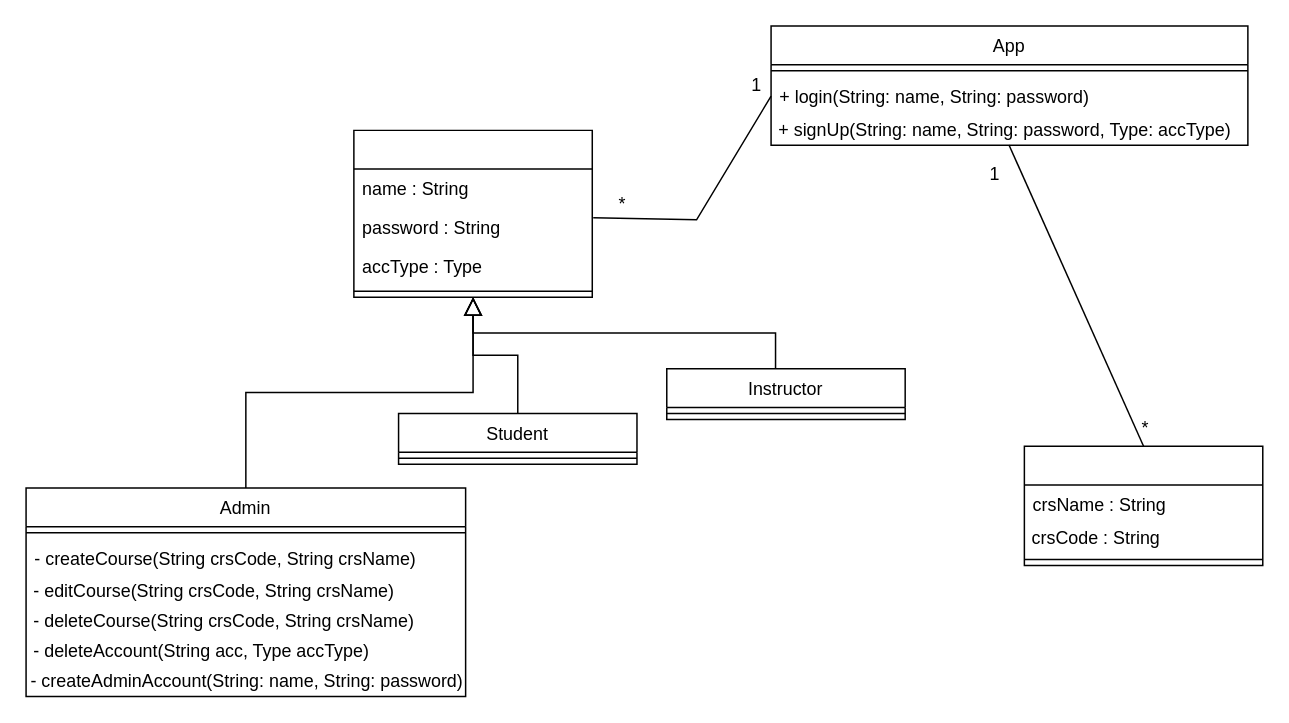
Image size: 1289x723. Some labels were removed from this diagram. The box of each missing label's shape, as (x1, y1, x2, y2) in pixels:
Course: (1023, 445, 1263, 565)
User: (352, 129, 592, 297)
